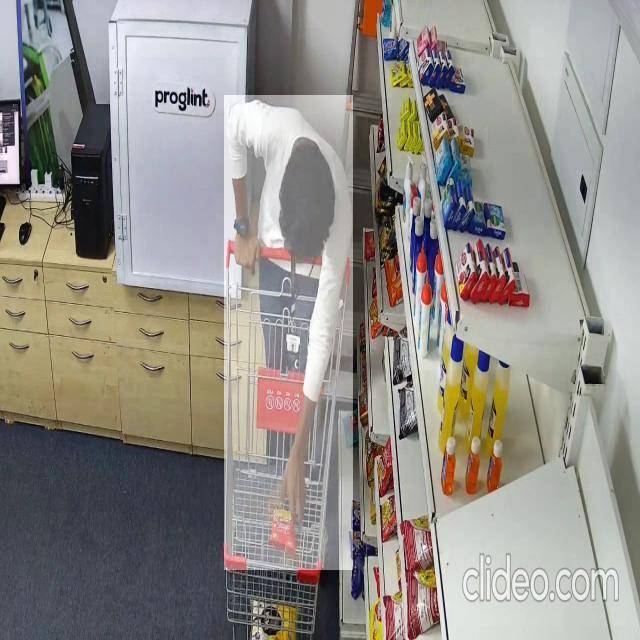normal: (224, 95, 353, 570)
